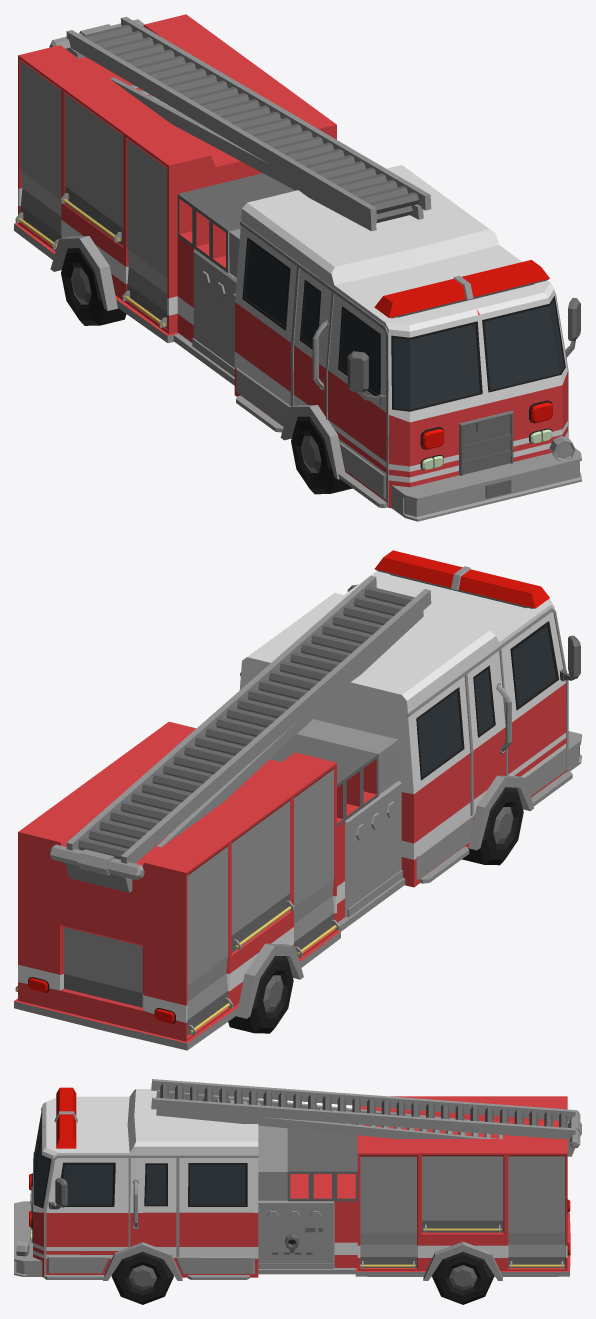
The model's file is fireengine.glb.
The picture shows the model from 3 angles, top to bottom: view 1: azimuth 30°, elevation 25°; view 2: azimuth 150°, elevation 25°; view 3: azimuth 270°, elevation 25°; orthographic projection. The views are drawn at different scales.
Parts seen in each view (by area): view 1: Firetruck, BackTires, LeftTire_Front; view 2: Firetruck, BackTires, LeftTire_Front; view 3: Firetruck, RightTire_Front, BackTires.
Boxes of the visible parts, x1,y1,x2,y2 form: Firetruck: (14, 14, 581, 521); BackTires: (61, 248, 126, 325); LeftTire_Front: (291, 416, 352, 494); Firetruck: (14, 550, 581, 1050); BackTires: (228, 956, 293, 1033); LeftTire_Front: (462, 787, 523, 865); Firetruck: (14, 1079, 581, 1280); RightTire_Front: (111, 1251, 173, 1304); BackTires: (432, 1251, 494, 1304).
Size of the model in its own units: 2.75 by 3.01 by 8.41.
